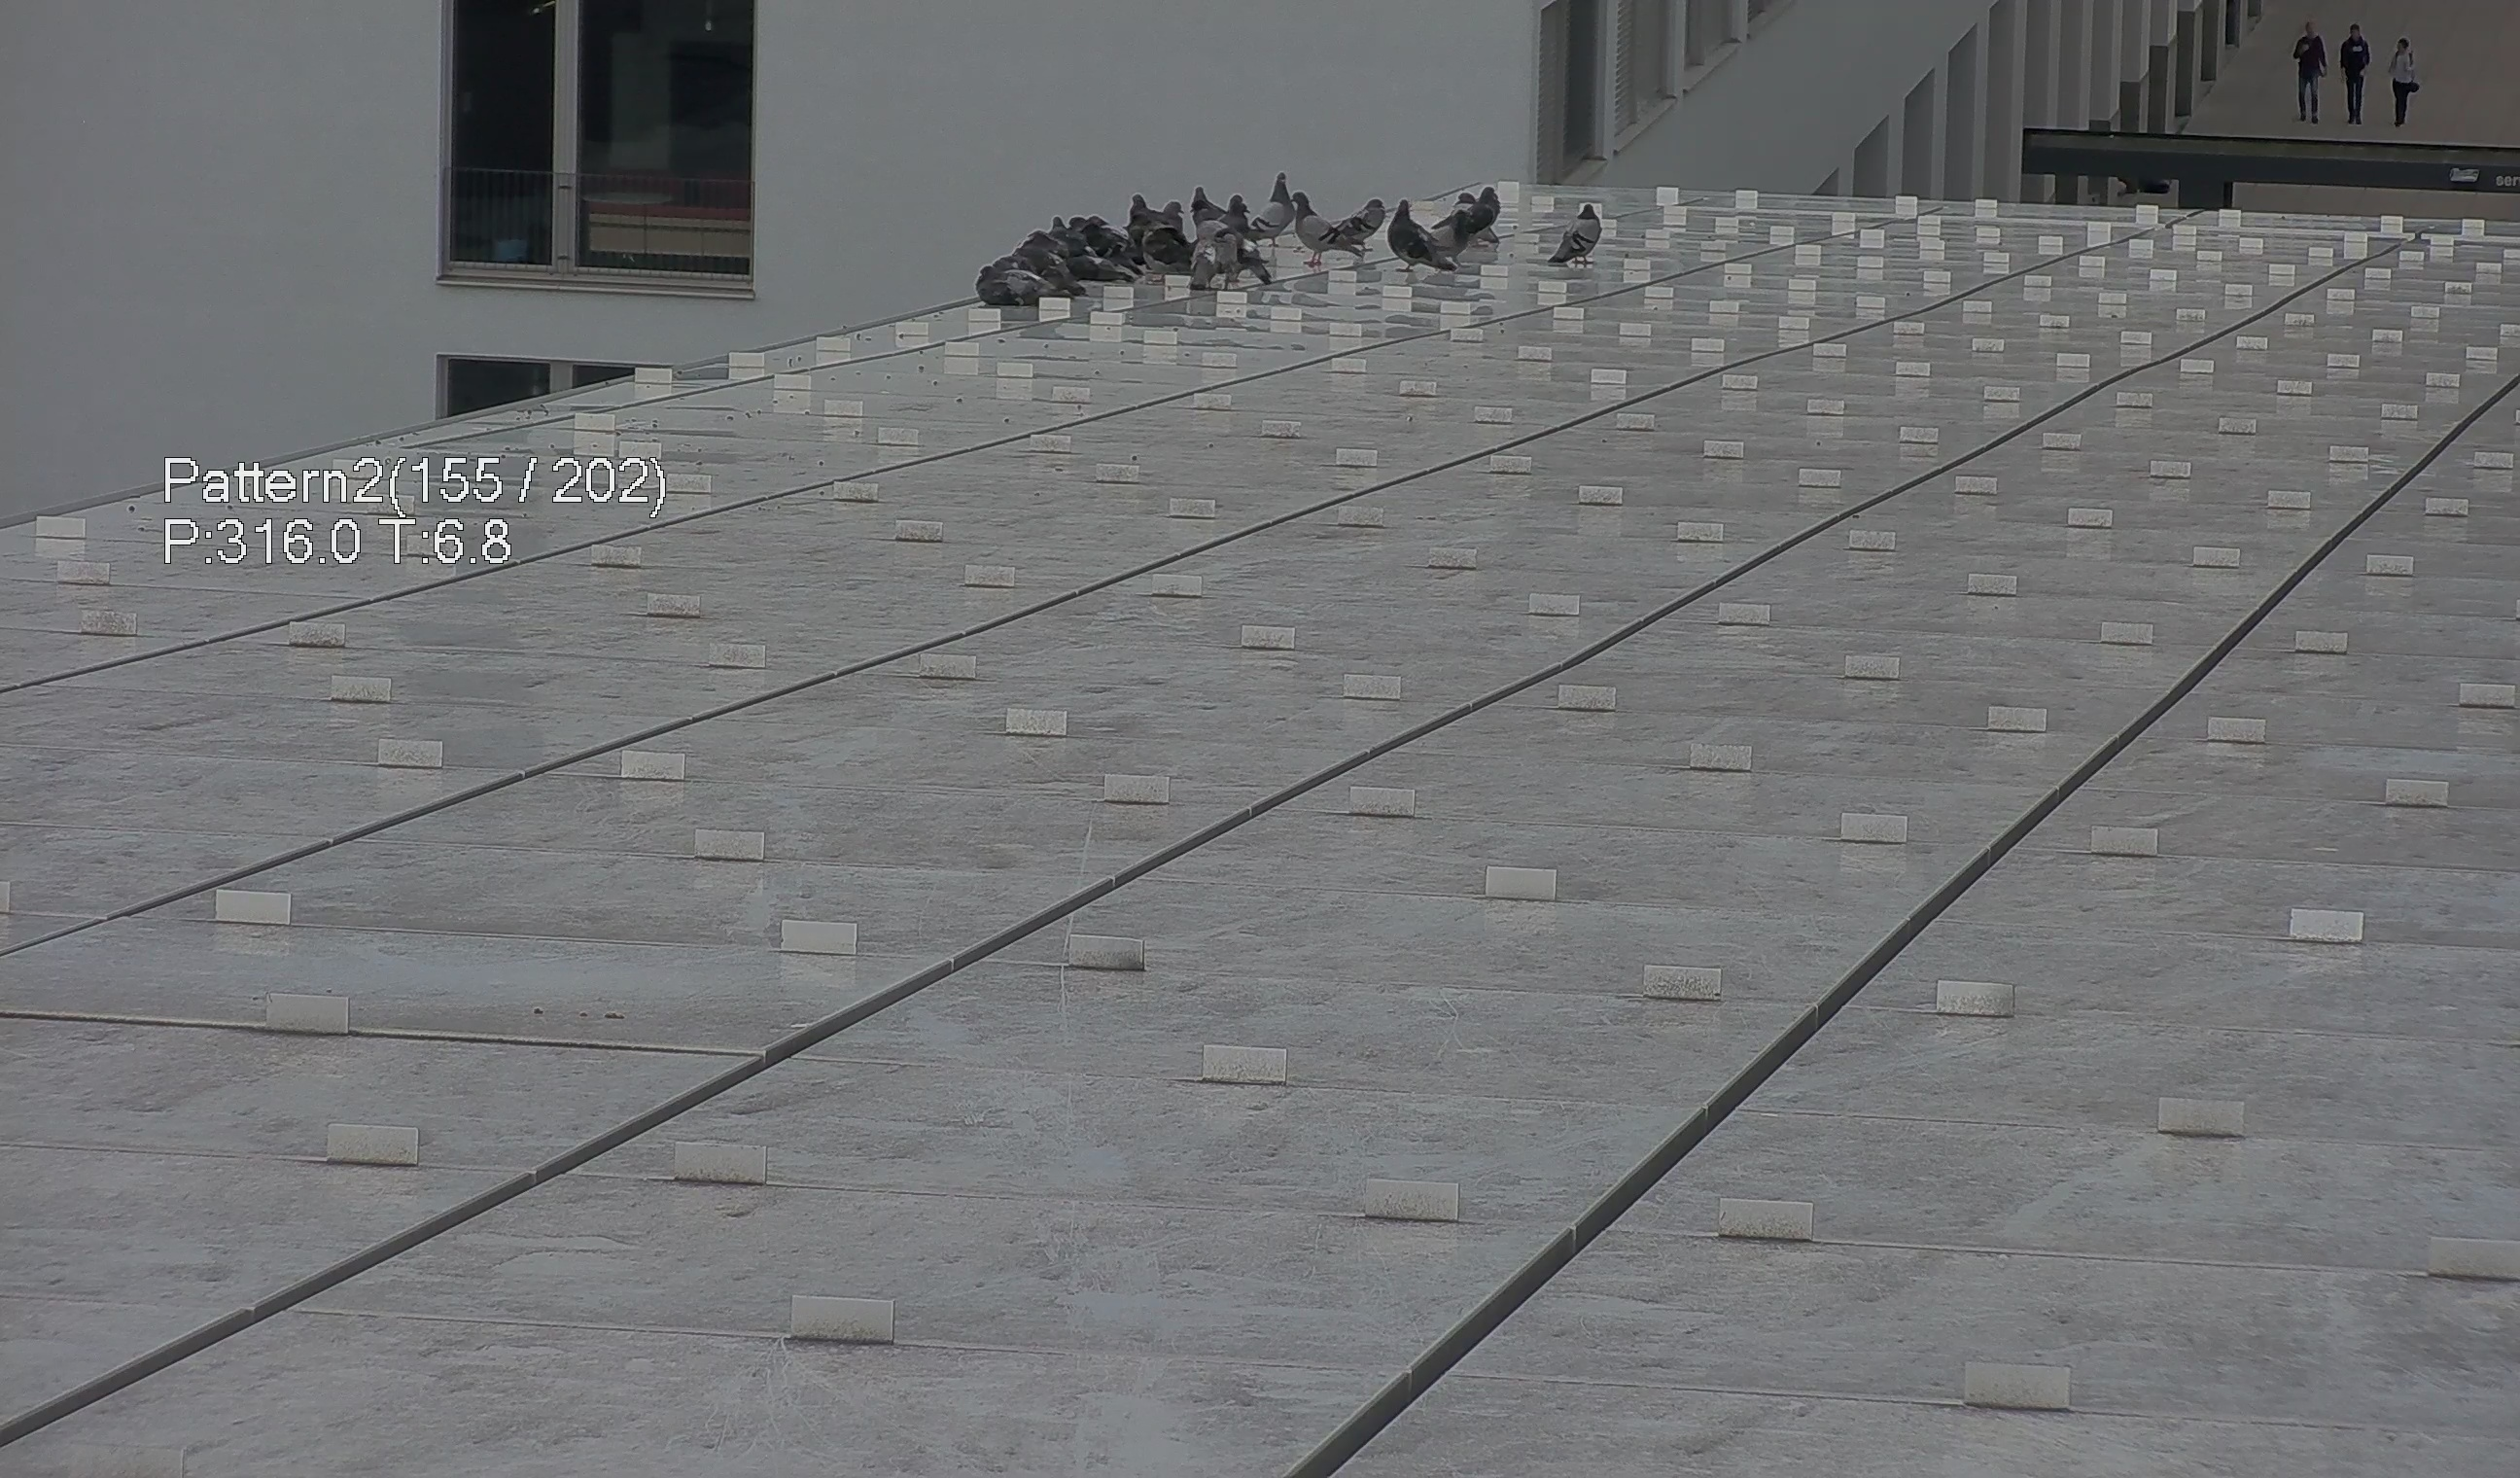Pigeon: (1377, 204, 1491, 269), (1277, 178, 1368, 259), (1184, 227, 1271, 301), (960, 255, 1066, 311), (1551, 199, 1614, 266), (1247, 178, 1298, 248), (1336, 195, 1391, 246), (1428, 208, 1479, 260), (1467, 183, 1509, 234), (1117, 192, 1152, 225), (1189, 188, 1222, 223)
